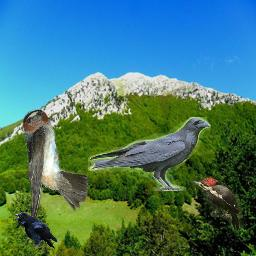Crow: (88, 117, 211, 191), (14, 212, 58, 250)
Swallow: (22, 109, 88, 227)
Woodpecker: (191, 175, 245, 233)
